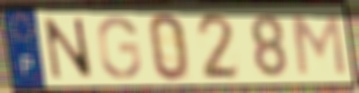0: (147, 11, 191, 83)
2: (196, 11, 241, 81)
8: (248, 12, 290, 79)
G: (95, 14, 143, 81)
M: (289, 12, 349, 78)
N: (40, 16, 97, 81)
